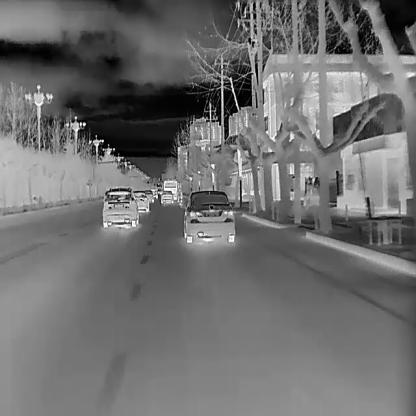bus: (163, 179, 178, 200)
car: (182, 190, 235, 243), (101, 187, 138, 228), (132, 189, 149, 213), (160, 190, 173, 205), (144, 189, 154, 203)
